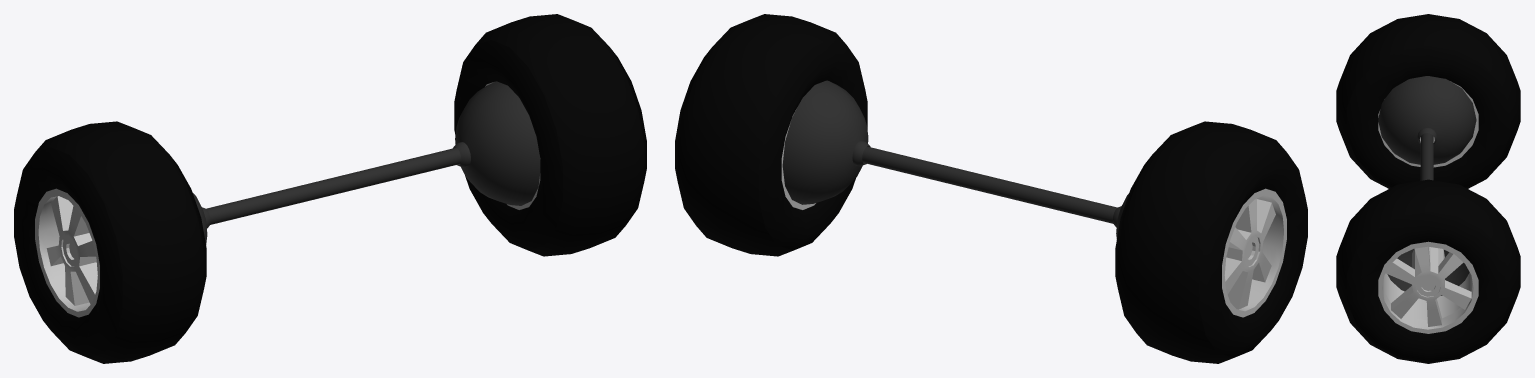
File: int1.dae
3 renders of one model, left to right at view 1: azimuth 30°, elevation 25°; view 2: azimuth 150°, elevation 25°; view 3: azimuth 270°, elevation 25°, orthographic. The views are drawn at different scales.
Parts seen in each view (by area): view 1: LLanta_3, Llanta_4, Llanta_4_tubo, Llanta_3_rin, Tubo_trasero; view 2: LLanta_3, Llanta_4, Llanta_4_tubo, Llanta_3_rin, Tubo_trasero; view 3: Llanta_4, LLanta_3, Llanta_4_rin, Llanta_3_tubo, Llanta_4_tubo, Tubo_trasero, Llanta_3_rin.
Part boxes in pixels (<box>): LLanta_3: <box>14,121,206,363</box>; Llanta_4: <box>454,14,646,256</box>; Llanta_4_tubo: <box>453,81,540,205</box>; Llanta_3_rin: <box>35,188,99,317</box>; Tubo_trasero: <box>206,147,461,224</box>; LLanta_3: <box>1115,121,1307,363</box>; Llanta_4: <box>675,14,867,256</box>; Llanta_4_tubo: <box>782,80,870,204</box>; Llanta_3_rin: <box>1222,188,1286,317</box>; Tubo_trasero: <box>862,146,1117,223</box>; Llanta_4: <box>1336,179,1520,363</box>; LLanta_3: <box>1336,14,1520,188</box>; Llanta_4_rin: <box>1378,241,1478,333</box>; Llanta_3_tubo: <box>1378,76,1476,164</box>; Llanta_4_tubo: <box>1387,249,1469,295</box>; Tubo_trasero: <box>1420,133,1433,180</box>; Llanta_3_rin: <box>1378,81,1478,167</box>.
Size of the model in its own units: 0.8889 by 0.3387 by 0.3439.
Materials: 3 (3 with a texture image).
